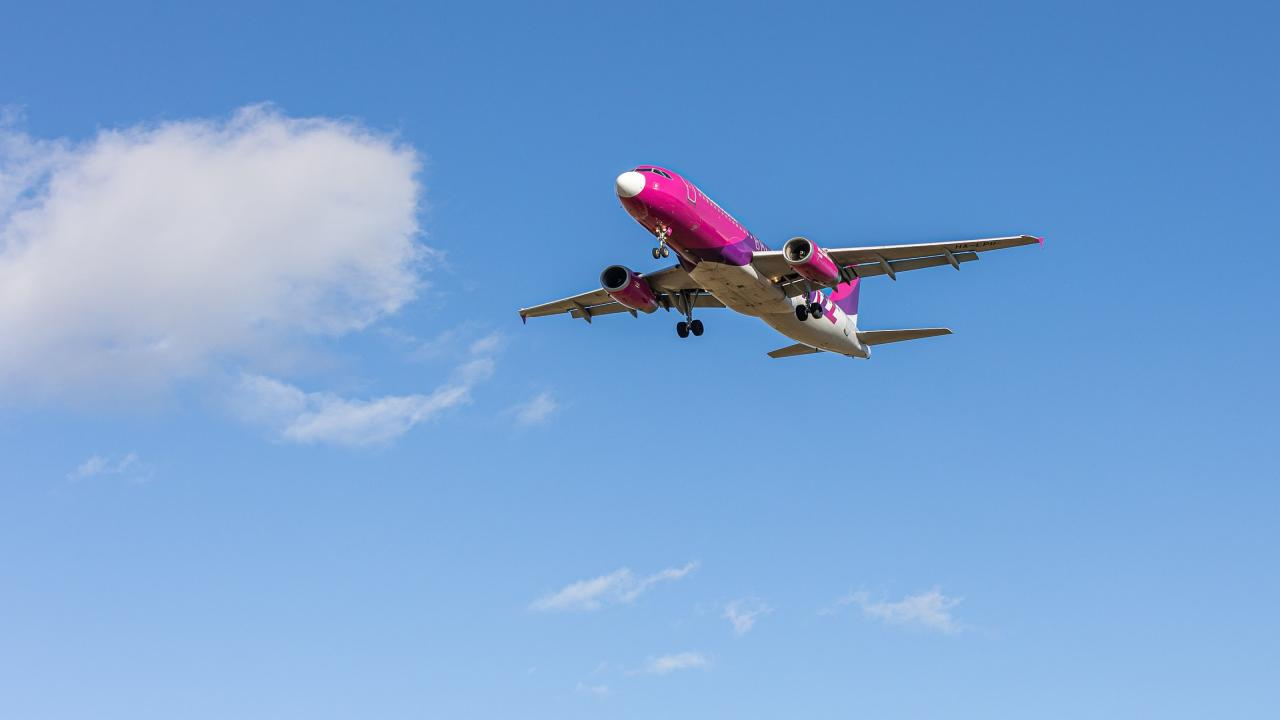Airplane: (510, 154, 1060, 369)
